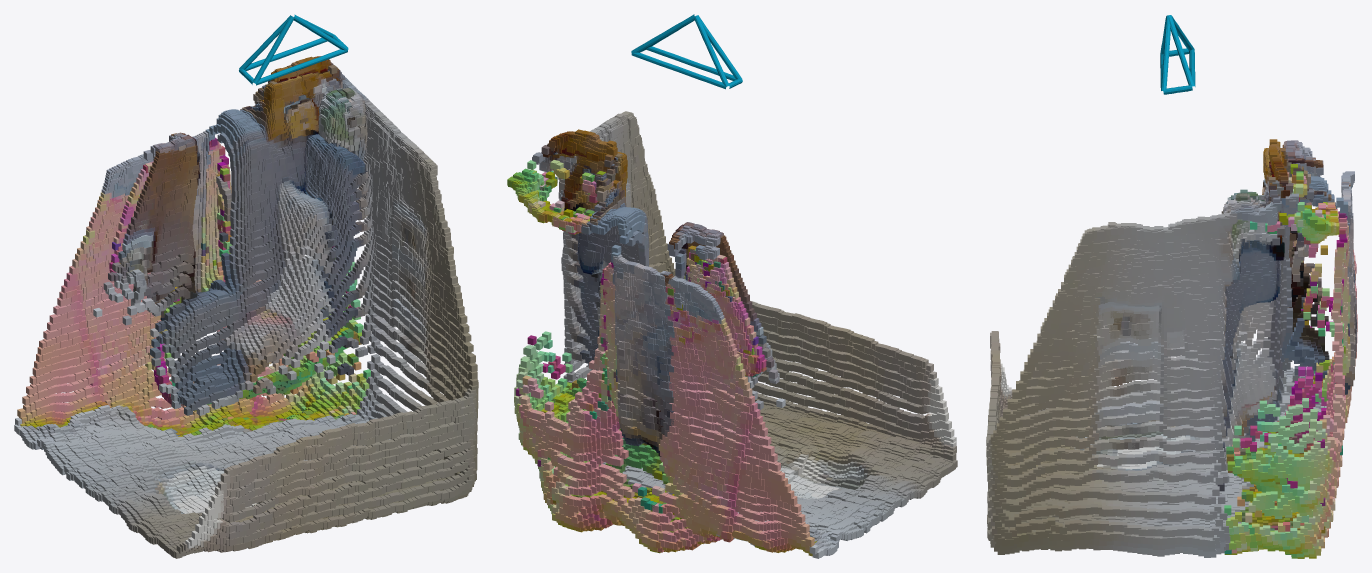
File: pred_0-compressed.glb
3 renders of one model, left to right at view 1: azimuth 30°, elevation 25°; view 2: azimuth 150°, elevation 25°; view 3: azimuth 270°, elevation 25°, orthographic. The views are drawn at different scales.
Size of the model in its own units: 2.7 by 3.87 by 2.54.
